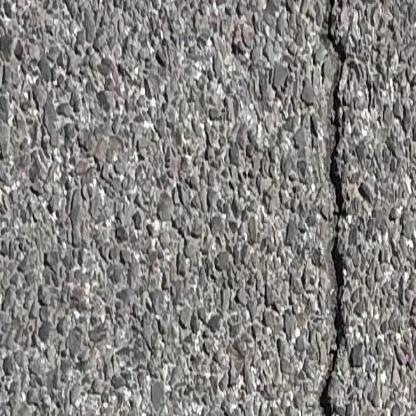Cracks: (315, 0, 353, 416)
